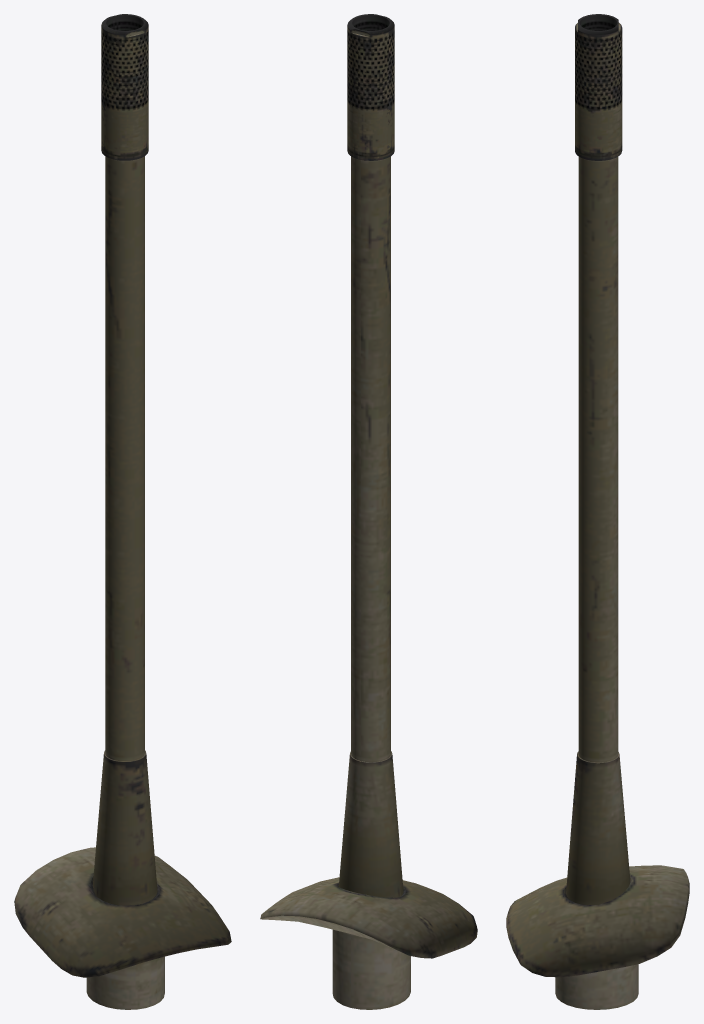
The model's file is Gun_02.glb.
3 renders of one model, left to right at view 1: azimuth 30°, elevation 25°; view 2: azimuth 150°, elevation 25°; view 3: azimuth 270°, elevation 25°, orthographic.
Parts seen in each view (by area): view 1: set_0_group_0; view 2: set_0_group_0; view 3: set_0_group_0.
Part boxes in pixels (box(x1,y1,x2,y2)): set_0_group_0: box(14, 14, 231, 1009); set_0_group_0: box(260, 14, 477, 1009); set_0_group_0: box(506, 14, 689, 1009).
Size of the model in its own units: 0.598 by 3.34 by 0.573.
1 material, 1 textured.
